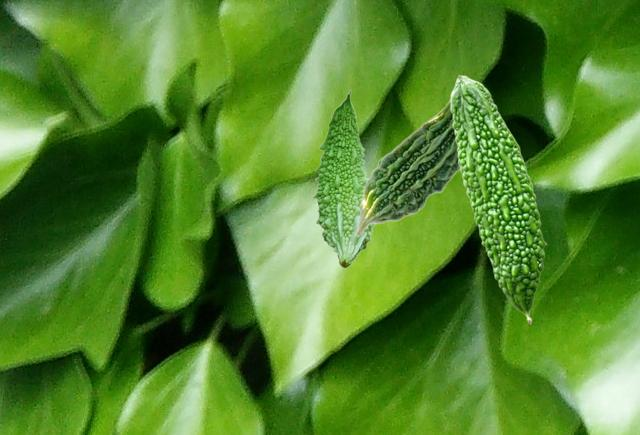ampalaya: (448, 74, 548, 326), (353, 100, 459, 237), (311, 89, 376, 268)
